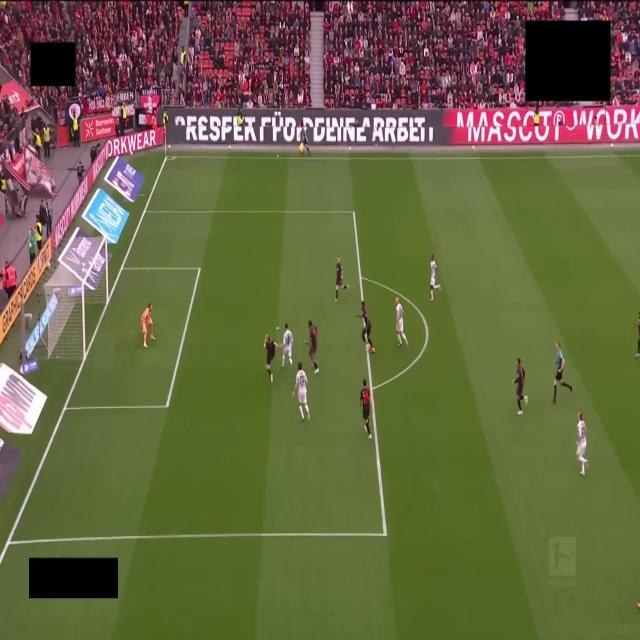player: (292, 362, 309, 421), (358, 301, 374, 353), (513, 359, 527, 415), (305, 320, 318, 374), (360, 380, 371, 439), (577, 412, 587, 476), (264, 336, 277, 383), (335, 257, 348, 301), (141, 304, 154, 347), (396, 298, 407, 346), (282, 324, 293, 367), (430, 255, 440, 302), (635, 311, 640, 358)
referee: (553, 343, 572, 402)
